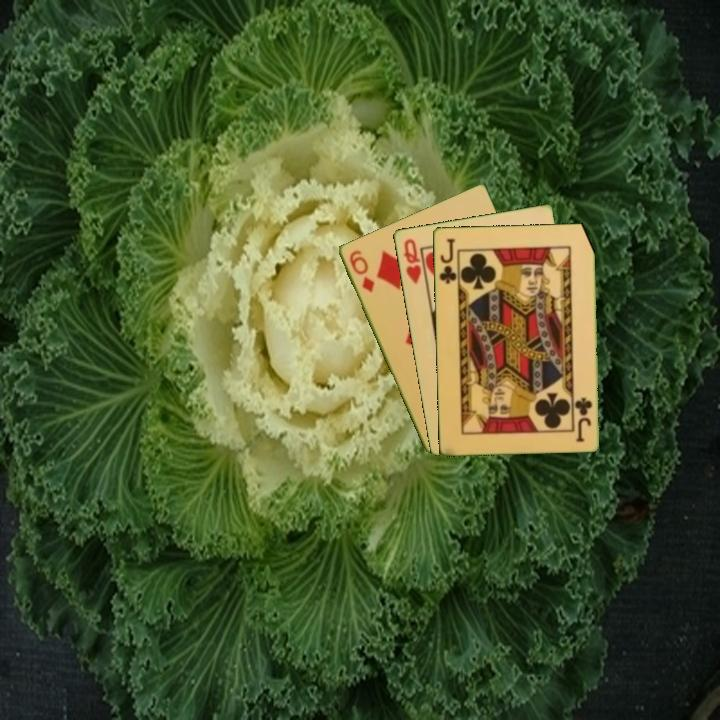6d: (345, 246, 377, 295)
Jc: (435, 235, 459, 286), (572, 394, 595, 445)
Qh: (400, 235, 424, 286)
